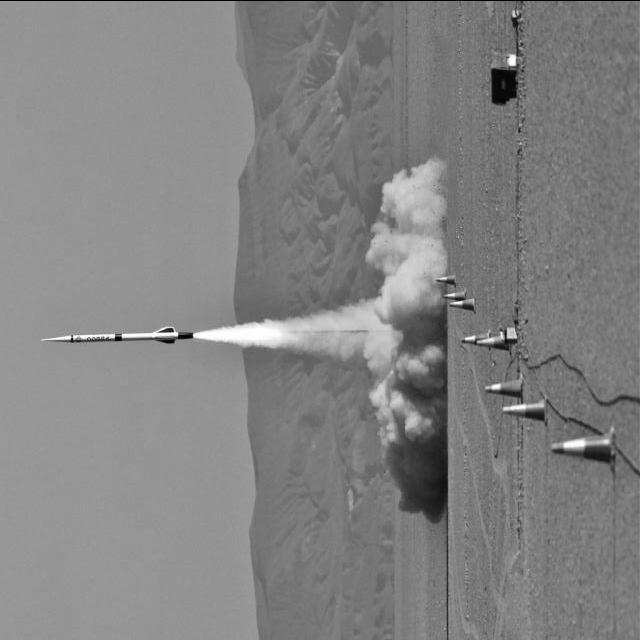missile: (39, 324, 196, 345), (38, 322, 191, 342)
